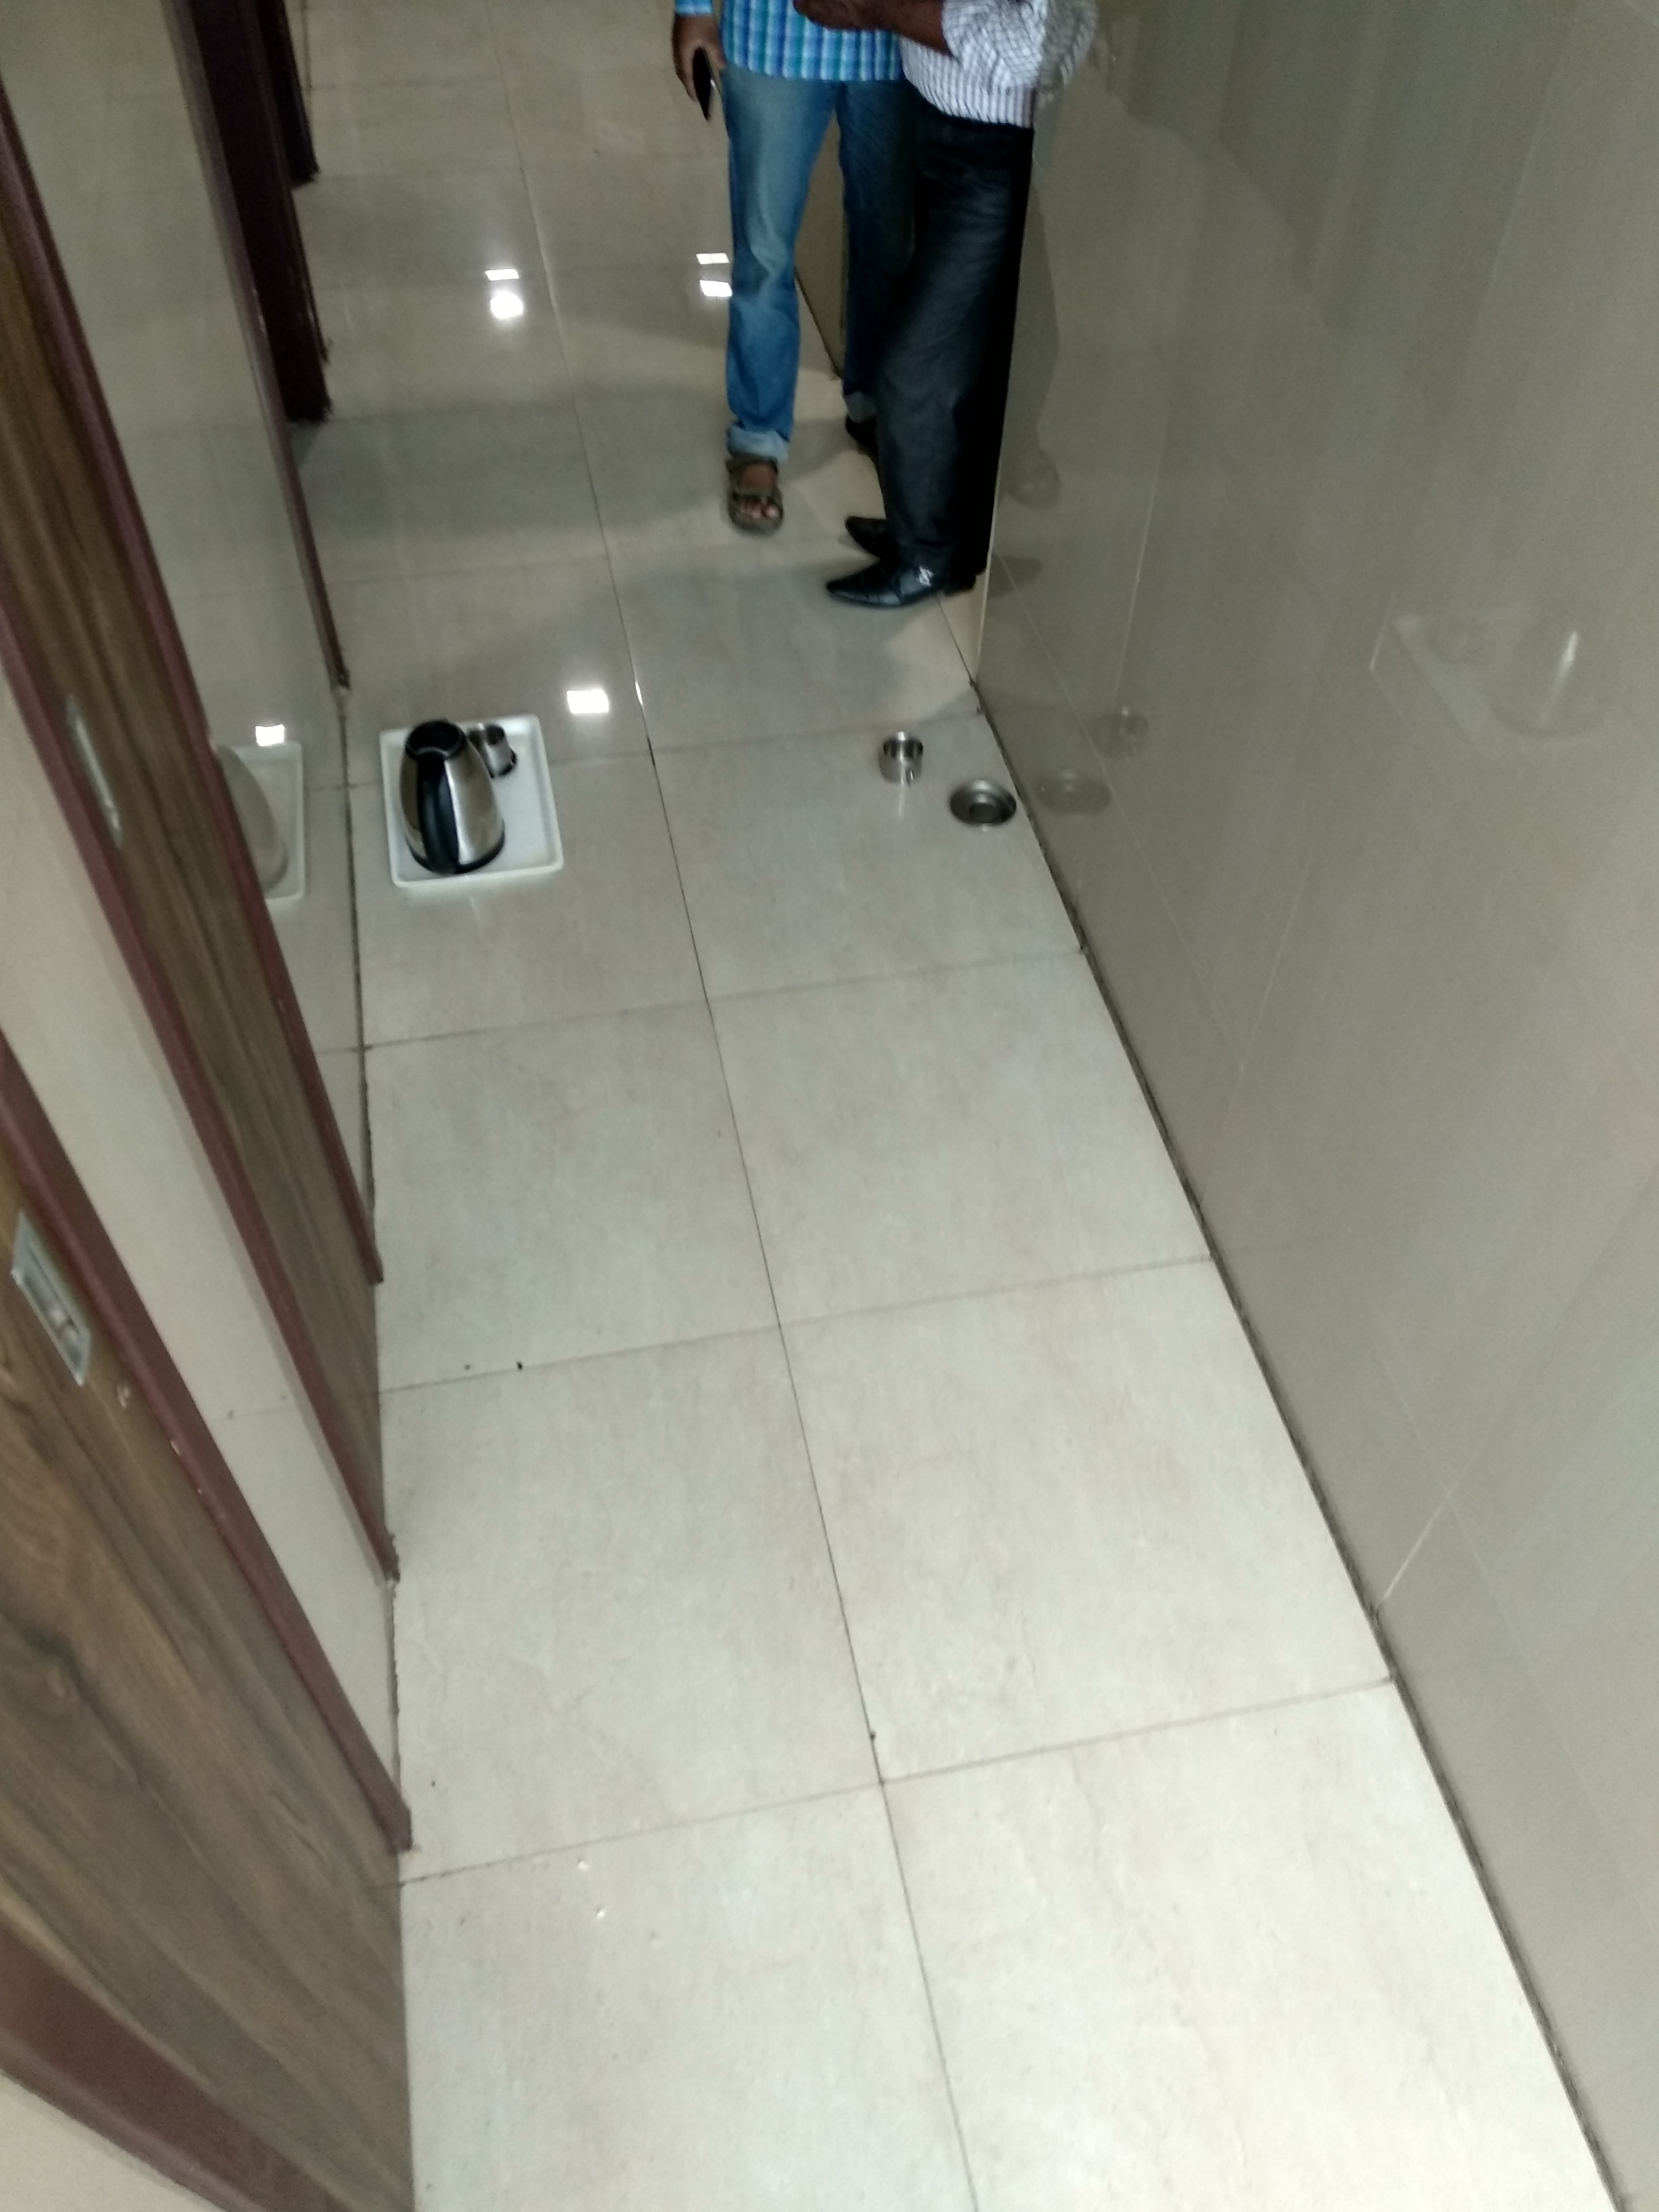CUP: (887, 730, 929, 782), (484, 725, 512, 772)
FLASK: (397, 732, 486, 869)
